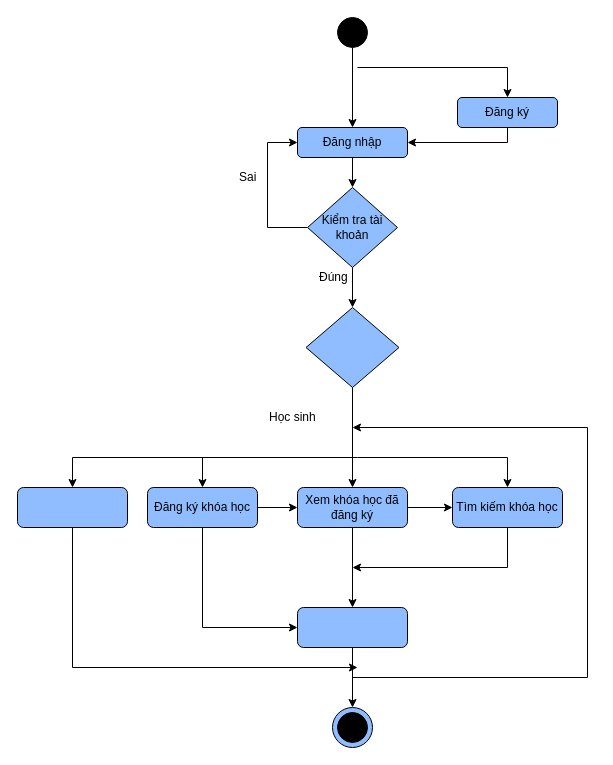
This 613x765 diagram has some shape labels left out. The shapes that lost their labels are listed below. From the top down, each one's centre as x and y in pixels, then its label:
At (352,347): "Xét quyền truy cập".
At (72,507): "Sửa thông tin cá nhân".
At (352,627): "Vào lớp học".
